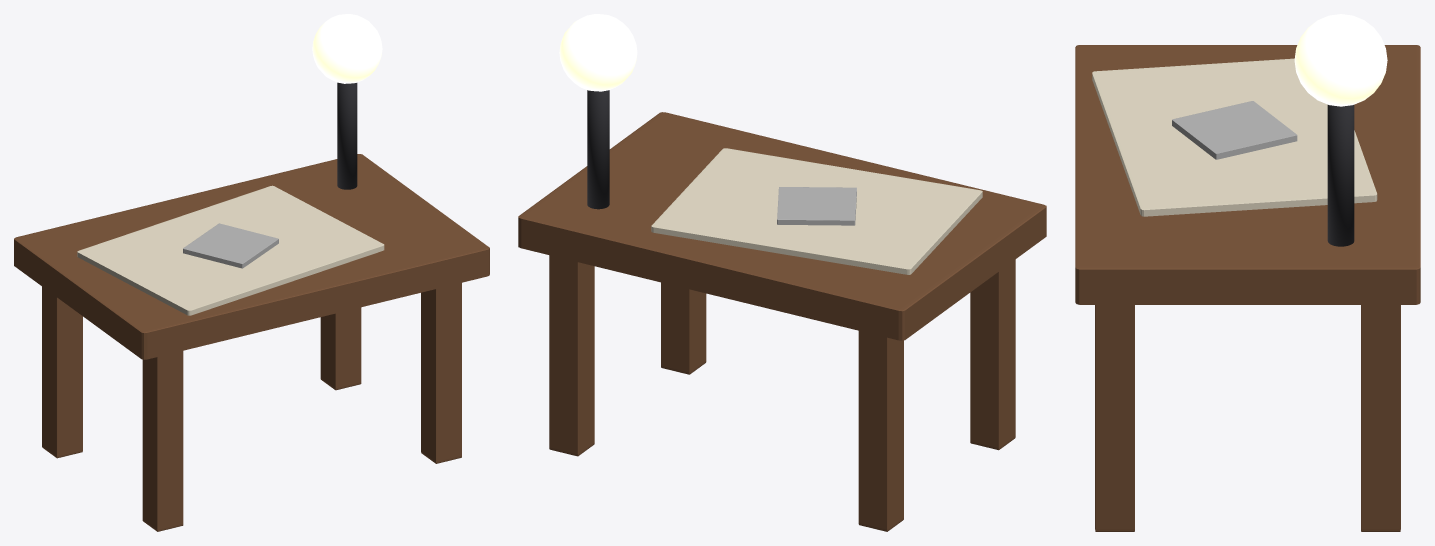
The model's file is lab.glb.
3 renders of one model, left to right at view 1: azimuth 30°, elevation 25°; view 2: azimuth 150°, elevation 25°; view 3: azimuth 270°, elevation 25°, orthographic. The views are drawn at different scales.
Visible parts, largest first — view 1: machines/lab; view 2: machines/lab; view 3: machines/lab.
Boxes of the visible parts, x1,y1,x2,y2 form: machines/lab: (14,14,489,531); machines/lab: (518,14,1046,531); machines/lab: (1075,14,1420,531).
Bounding box in the file's own units: 0.8 × 0.83 × 0.52.
